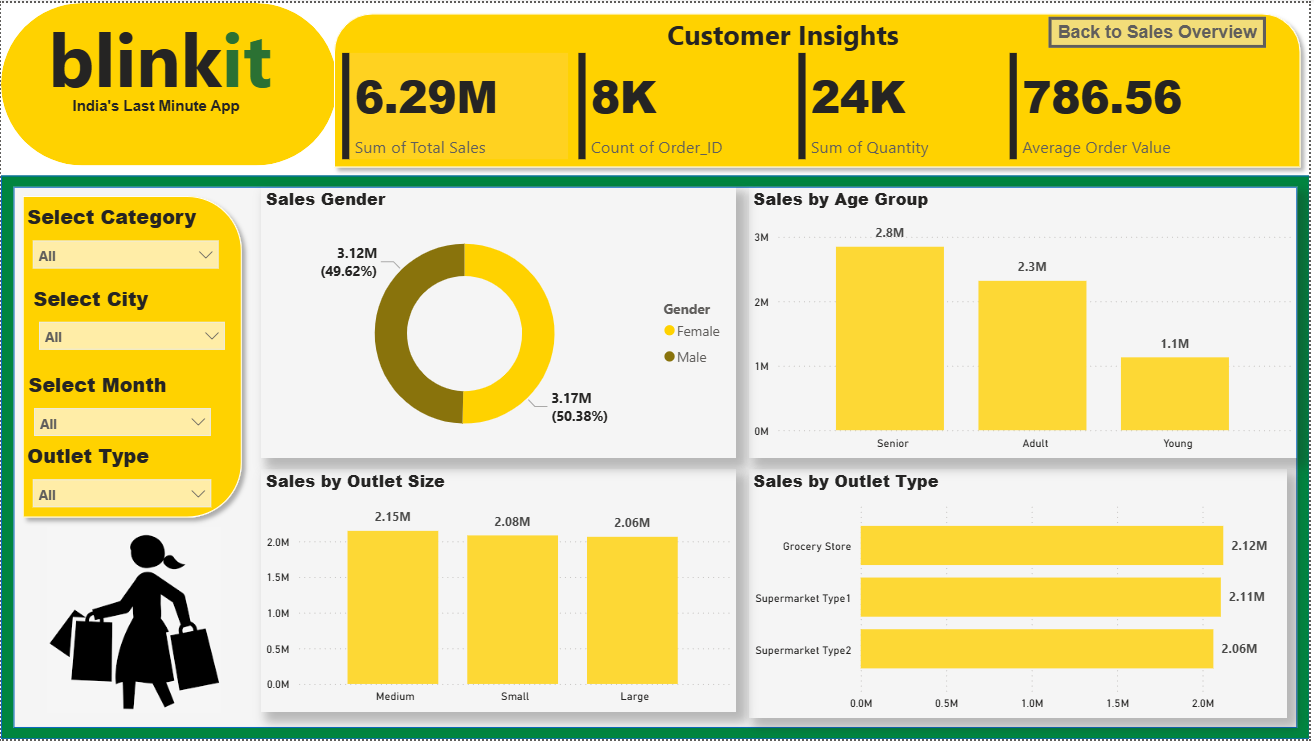

The dashboard page shown, as its layout file describes it:
{"tool":"powerbi","page":{"name":"Customer Insights","canvas":[1280,720],"ordinal":1},"visuals":[{"type":"shape","box":[0,0,328.9,159],"z":0},{"type":"shape","box":[316.4,1.2,963.6,168.8],"z":1000},{"type":"shape","box":[0,168.5,1280.3,551.5],"z":2000},{"type":"shape","box":[12.2,179.8,1255.8,529.5],"z":3000},{"type":"shape","box":[12.2,179.8,232.3,332.6],"z":4000},{"type":"textbox","box":[57,85,187.1,30.6],"z":5000},{"type":"textbox","box":[41.6,0,237.2,107.6],"z":6000},{"type":"cardVisual","fields":{"Data":["Sum(blinkit_large_dataset.Total)"]},"box":[328.9,44,231.1,114.9],"z":7000},{"type":"cardVisual","fields":{"Data":["CountNonNull(blinkit_large_dataset.Order_ID)"]},"box":[560.1,44,205.4,114.9],"z":8000},{"type":"cardVisual","fields":{"Data":["Sum(blinkit_large_dataset.Quantity)"]},"box":[775.3,44,206.7,114.9],"z":9000},{"type":"cardVisual","fields":{"Data":["blinkit_large_dataset.AOV"]},"box":[981.9,44,205.4,114.9],"z":10000},{"type":"donutChart","title":" Sales Gender","fields":{"Category":["blinkit_large_dataset.Customer_Gender"],"Y":["Sum(blinkit_large_dataset.Total Sales)"]},"box":[254.3,179.8,464.7,265.4],"z":11000},{"type":"clusteredColumnChart","title":"Sales by Age Group","fields":{"Category":["blinkit_large_dataset.Age Group"],"Y":["Sum(blinkit_large_dataset.Total Sales)"]},"box":[731.3,179.8,536.8,265.4],"z":12000},{"type":"clusteredColumnChart","title":"Sales by Outlet Size","fields":{"Category":["blinkit_large_dataset.Outlet_Size"],"Y":["Sum(blinkit_large_dataset.Total Sales)"]},"box":[254.3,456.1,464.7,237.2],"z":13000},{"type":"clusteredBarChart","title":"Sales by Outlet Type","fields":{"Category":["blinkit_large_dataset.Outlet_Type"],"Y":["Sum(blinkit_large_dataset.Total Sales)"]},"box":[731.3,456.1,527,243.3],"z":14000},{"type":"slicer","title":"Select Category","fields":{"Values":["blinkit_large_dataset.Category"]},"box":[20.8,195.7,201.8,79.5],"z":15000},{"type":"slicer","title":"Select City","fields":{"Values":["blinkit_large_dataset.City"]},"box":[26.9,275.1,201.8,70.9],"z":16000},{"type":"slicer","title":"Select Month","fields":{"Values":["blinkit_large_dataset.Month Name"]},"box":[22,359.5,193.2,69.7],"z":17000},{"type":"textbox","box":[646.9,7.3,255.6,46.5],"z":17001},{"type":"image","box":[22,507.5,216.4,192],"z":17002},{"type":"slicer","title":"Outlet Type","fields":{"Values":["blinkit_large_dataset.Outlet_Type"]},"box":[20.8,429.2,194.4,69.7],"z":17003},{"type":"actionButton","box":[1024.7,13.5,212.8,30.6],"z":17004}]}

Visuals, with their boxes in screenshot pixels (x1, y1, x2, y2), scaled from the page's 1280x720 canvas onto the 1314x743 screenshot:
shape: [0,0,338,164]
shape: [325,1,1313,175]
shape: [0,174,1313,742]
shape: [13,186,1302,732]
shape: [13,186,251,529]
textbox: [59,88,251,119]
textbox: [43,0,286,111]
cardVisual - Sum(blinkit_large_dataset.Total): [338,45,575,164]
cardVisual - CountNonNull(blinkit_large_dataset.Order_ID): [575,45,786,164]
cardVisual - Sum(blinkit_large_dataset.Quantity): [796,45,1008,164]
cardVisual - blinkit_large_dataset.AOV: [1008,45,1219,164]
" Sales Gender" donutChart: [261,186,738,459]
"Sales by Age Group" clusteredColumnChart: [751,186,1302,459]
"Sales by Outlet Size" clusteredColumnChart: [261,471,738,715]
"Sales by Outlet Type" clusteredBarChart: [751,471,1292,722]
"Select Category" slicer: [21,202,229,284]
"Select City" slicer: [28,284,235,357]
"Select Month" slicer: [23,371,221,443]
textbox: [664,8,926,56]
image: [23,524,245,722]
"Outlet Type" slicer: [21,443,221,515]
actionButton: [1052,14,1270,46]
